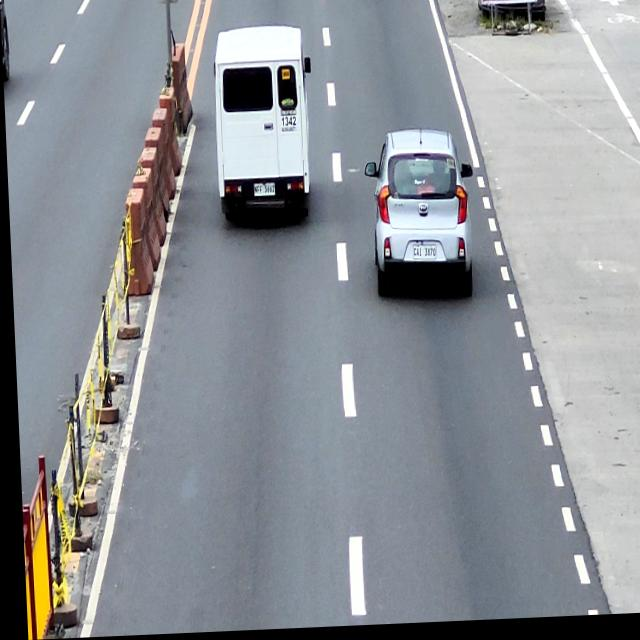Car: (210, 26, 315, 233), (362, 131, 476, 305)
License-Plate: (410, 249, 434, 264), (251, 184, 273, 199)
